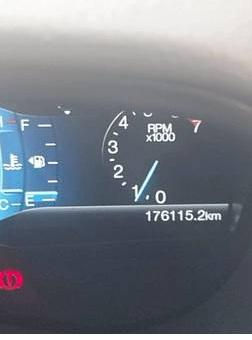-: (194, 218, 197, 222)
1: (145, 210, 152, 223), (177, 210, 183, 221), (170, 210, 175, 222)
2: (197, 210, 205, 221)
5: (185, 210, 194, 221)
6: (161, 210, 170, 222)
7: (152, 210, 160, 222)
X: (212, 212, 222, 221), (205, 210, 212, 221)
odometer: (143, 207, 223, 224)
